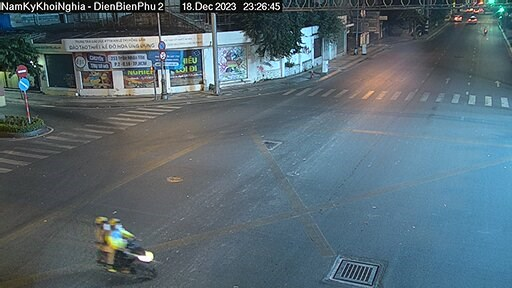motorbike: (88, 214, 161, 277)
